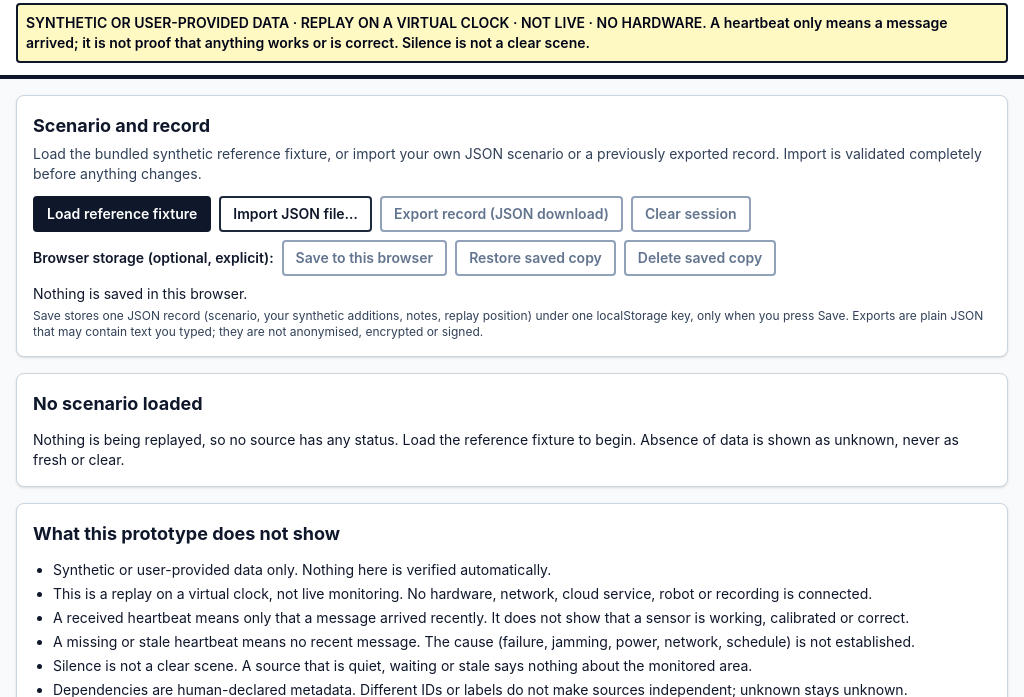
Test: adapter panel drives the real state machine › opt-in → valid heartbeat shows a fresh card with age 0
Click the button with test id "btn-load-ref" at (122, 214), box [33,196,211,232]
(page scrolled)
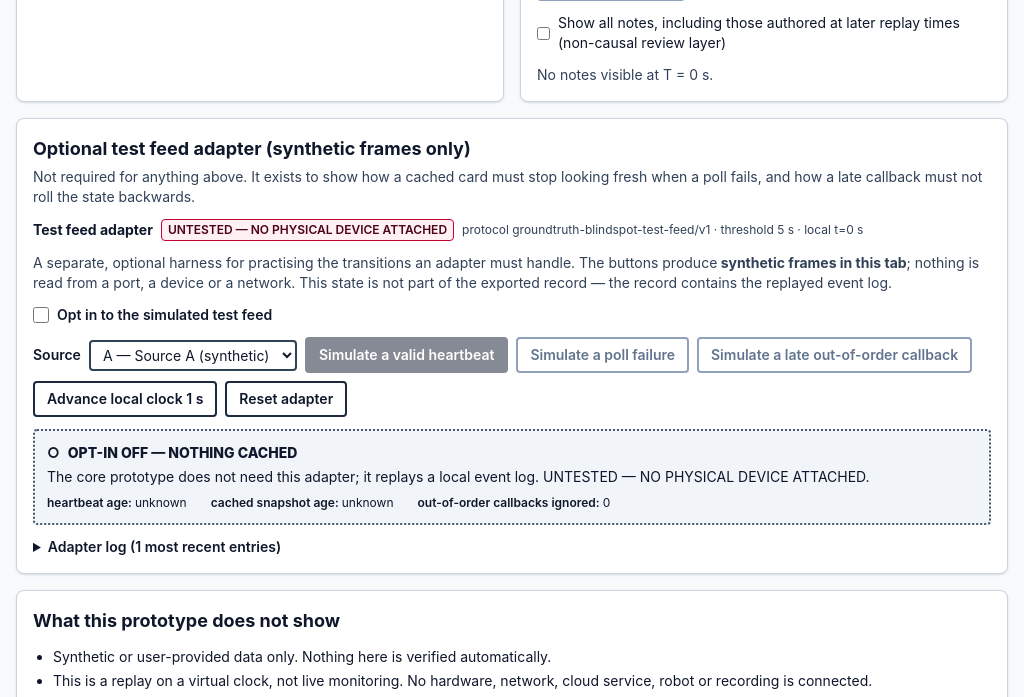
Click the checkbox with test id "adapter-optin" at (41, 315), box [33,307,49,323]
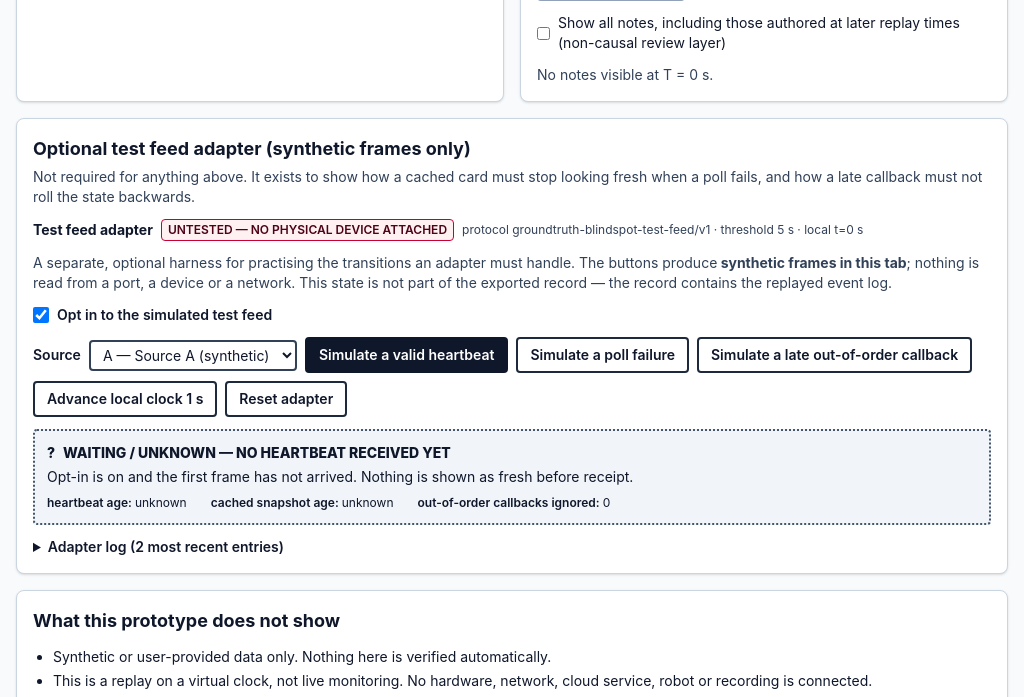
Click the button with test id "adapter-send" at (407, 355), box [305,337,508,373]
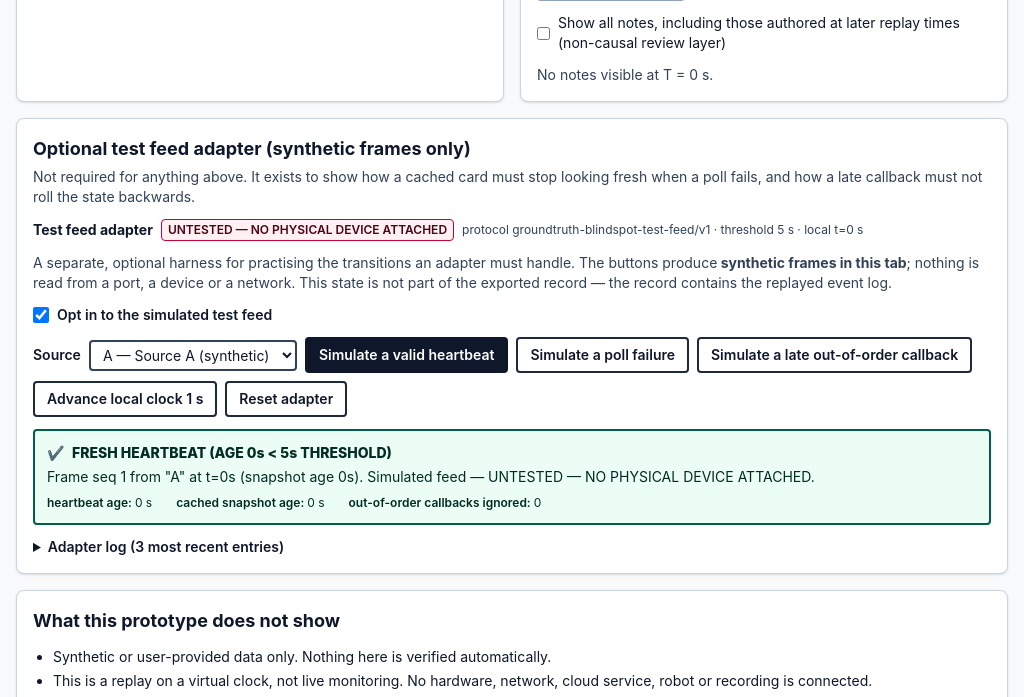
Now the element with test id "adapter-card" shows "AGE 0s < 5s THRESHOLD", box [72,444,392,461]
Now the element with test id "adapter-ages" shows "heartbeat age: 0 s", box [47,495,541,510]
